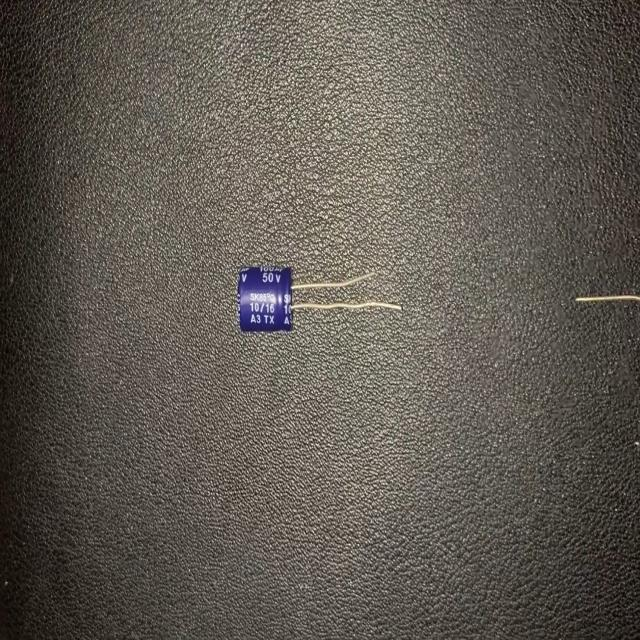capacitor: (236, 264, 404, 336)
